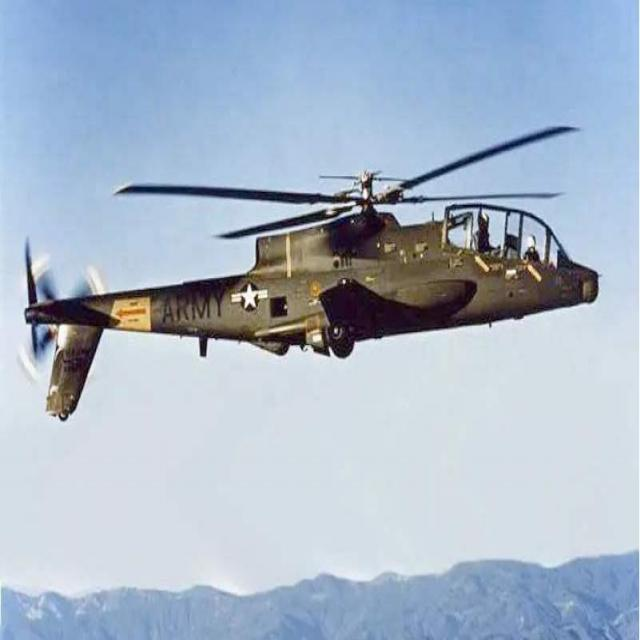MIL_HELO: (11, 119, 598, 464)
